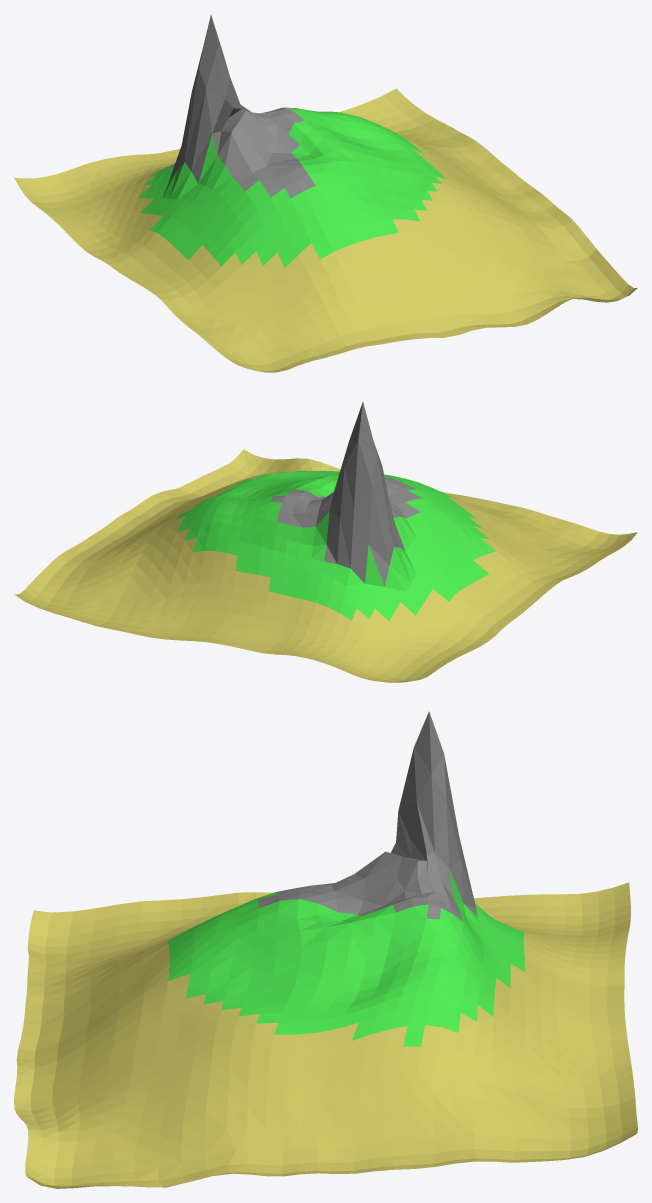
The model's file is island.dae.
The picture shows the model from 3 angles, top to bottom: view 1: azimuth 30°, elevation 25°; view 2: azimuth 150°, elevation 25°; view 3: azimuth 270°, elevation 25°; orthographic projection. The views are drawn at different scales.
Visible parts, largest first — view 1: island-col; view 2: island-col; view 3: island-col.
Boxes of the visible parts, <box> form: island-col: <box>14,15,637,372</box>; island-col: <box>14,402,637,682</box>; island-col: <box>14,711,637,1188</box>.
Size of the model in its own units: 267 by 271 by 150.
